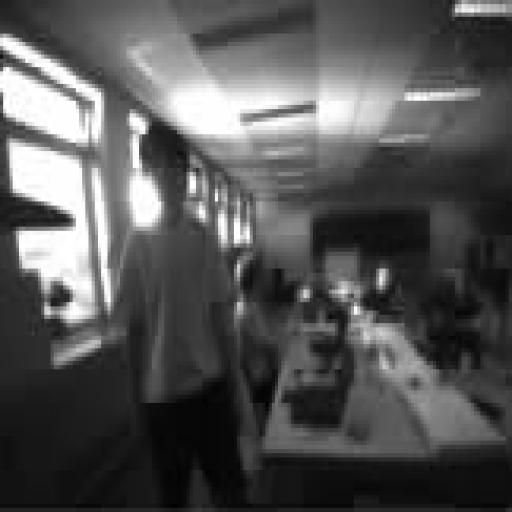human: (111, 122, 255, 507), (234, 252, 278, 423), (347, 255, 414, 322)
